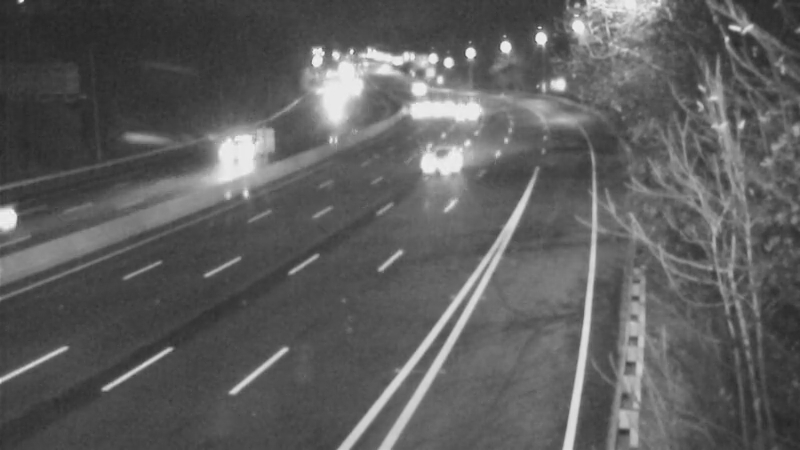vehicle: (398, 126, 478, 206), (1, 180, 65, 260), (388, 59, 438, 109), (414, 80, 464, 130), (397, 86, 447, 136), (440, 87, 490, 137), (209, 123, 259, 173)
